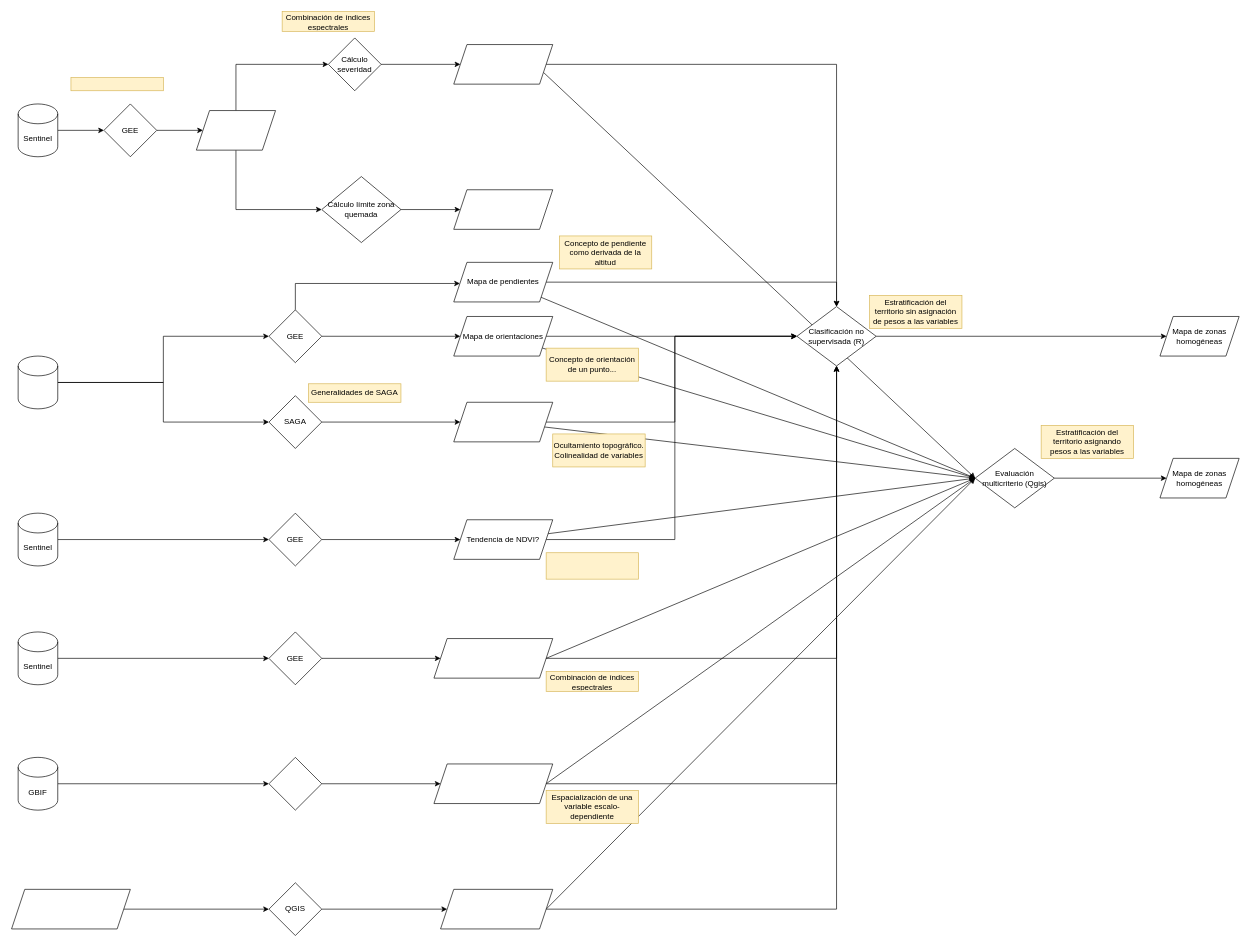
Some shapes in this 1251 by 947 pixel diagram are drawn without their labels. The shapes that lost their labels are listed below. From the top down, each one's box as (x1, y1, x2, y2) in pixels, then its label:
(70, 77, 163, 91): Generalidades de GEE
(453, 44, 553, 84): Mapa de severidad del incendio
(196, 110, 276, 150): Cálculo de índice NBR (Normalized Burn Ratio)
(453, 189, 553, 229): Delimitación zona quemada
(17, 355, 58, 409): MDE?
(453, 402, 553, 442): Mapa de insolación
(545, 552, 639, 579): Espacialización de la producción primaria
(433, 638, 553, 678): Moisture strees index (MSI)
(268, 757, 322, 810): R y QGIS
(433, 763, 553, 804): Mapa de biodiversidad
(11, 889, 130, 929): Mapa de carreteras
(440, 889, 553, 929): Mapa de distancias a carreteras
